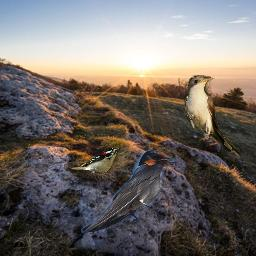Cuckoo: (184, 75, 243, 160)
Swallow: (81, 150, 175, 233)
Woodpecker: (71, 146, 121, 174)
